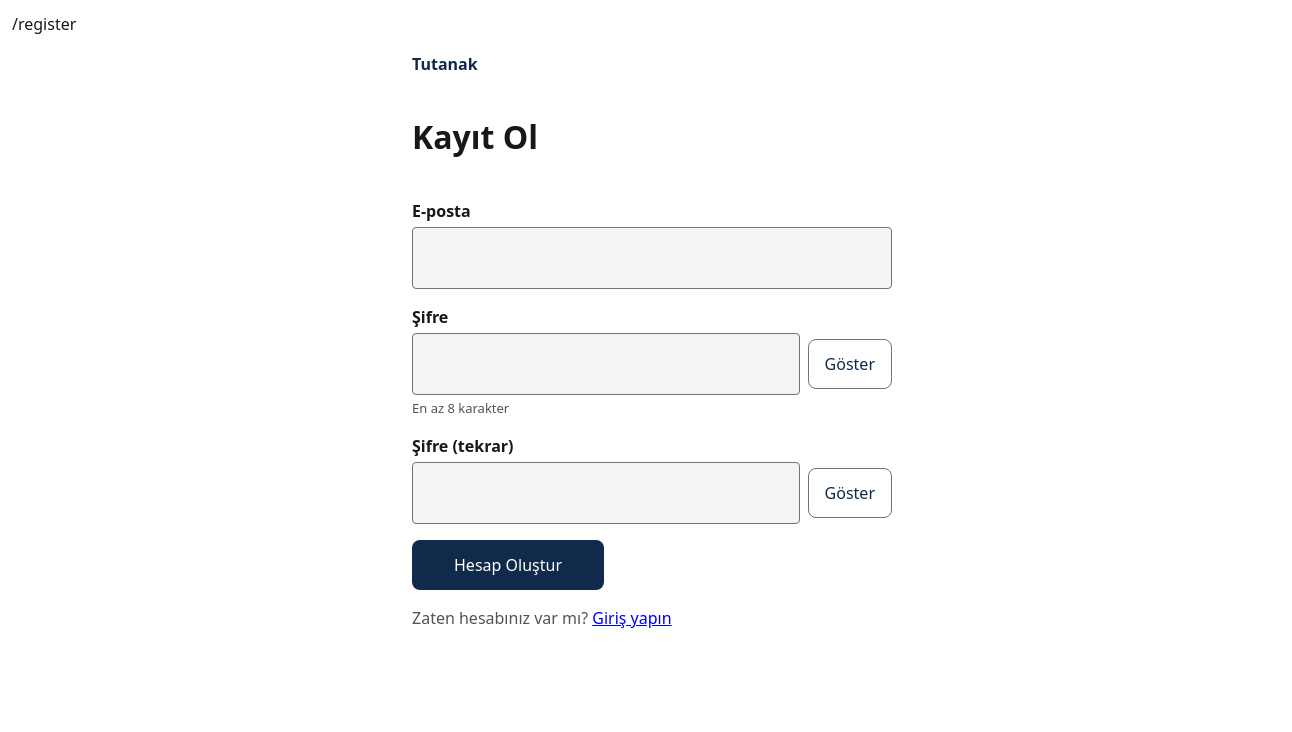
Test: RegisterPage › hata durumlari (kriter 7) › 429 yanitinda hiz siniri banner"i gosterir
Type "selin@ornek.com" into the field labelled "E-posta" at (652, 258), box [412,227,892,289]
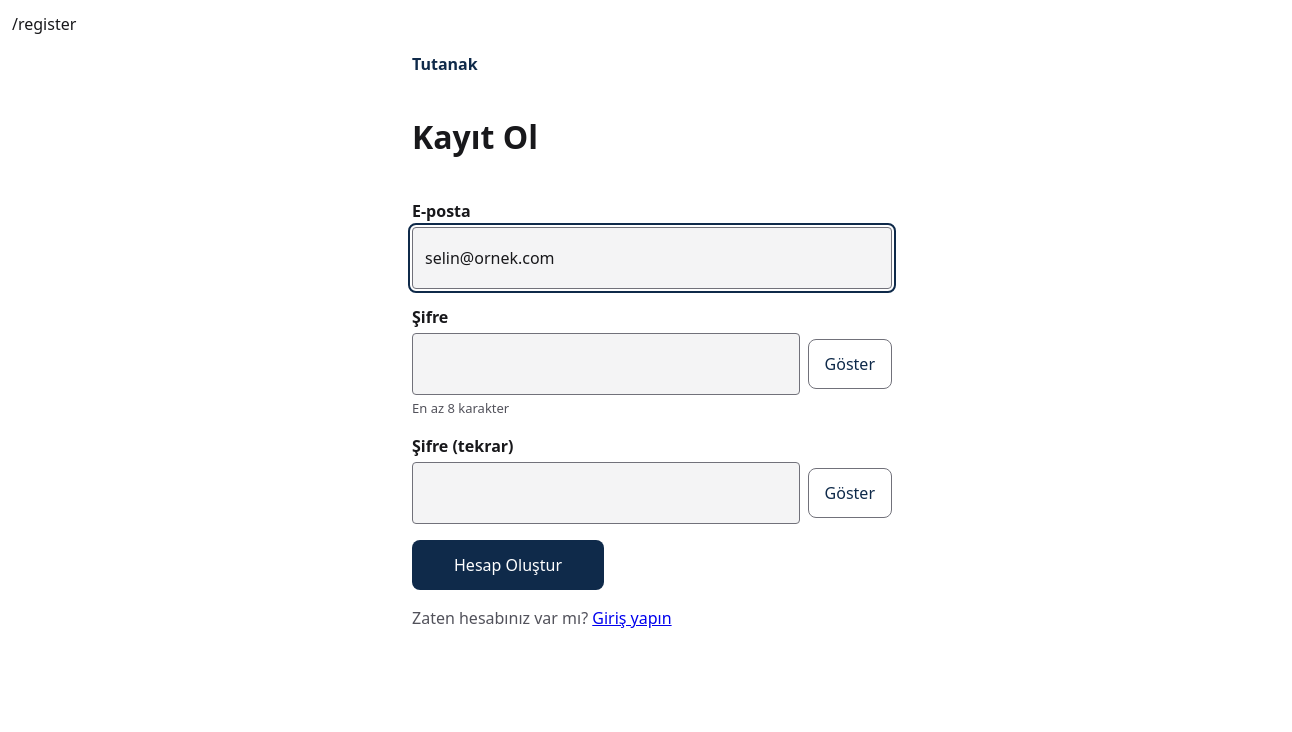
Type "cok-gizli-8" into the password field labelled "Şifre" at (606, 364), box [412,333,800,395]
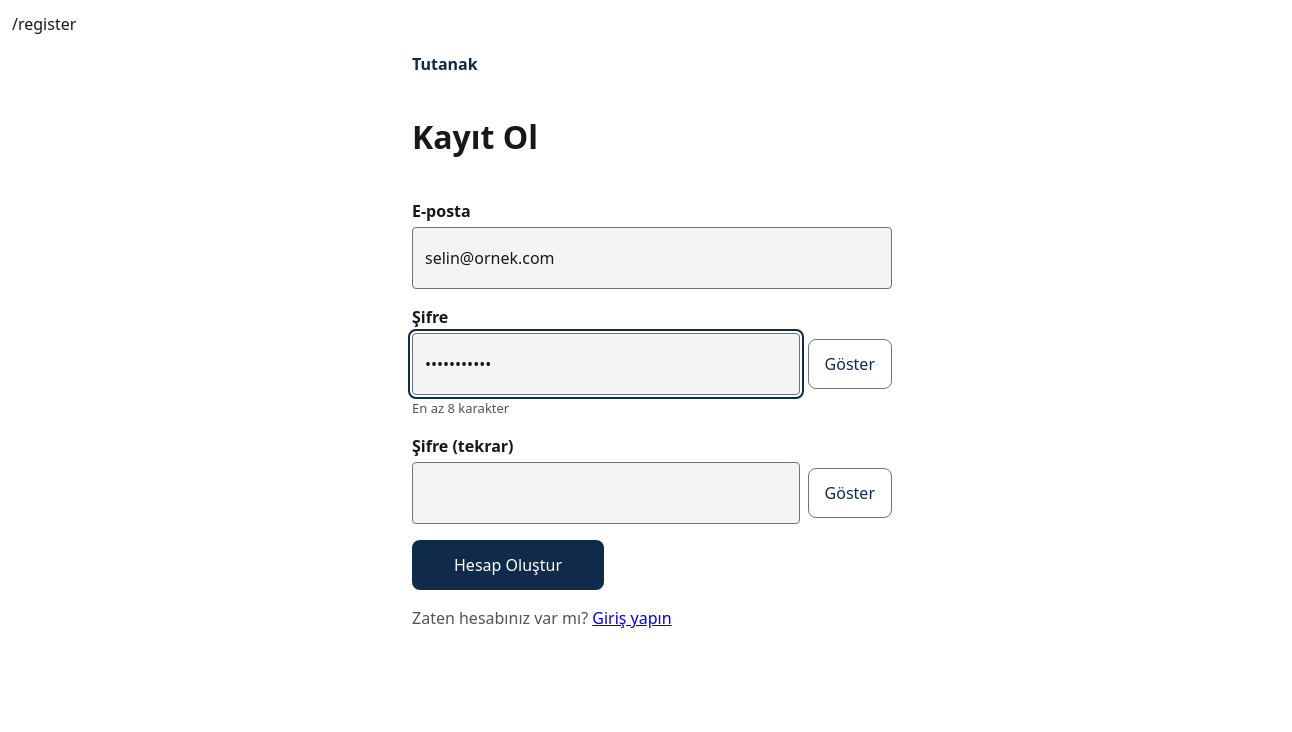
Type "cok-gizli-8" into the password field labelled "Şifre (tekrar)" at (606, 493), box [412,462,800,524]
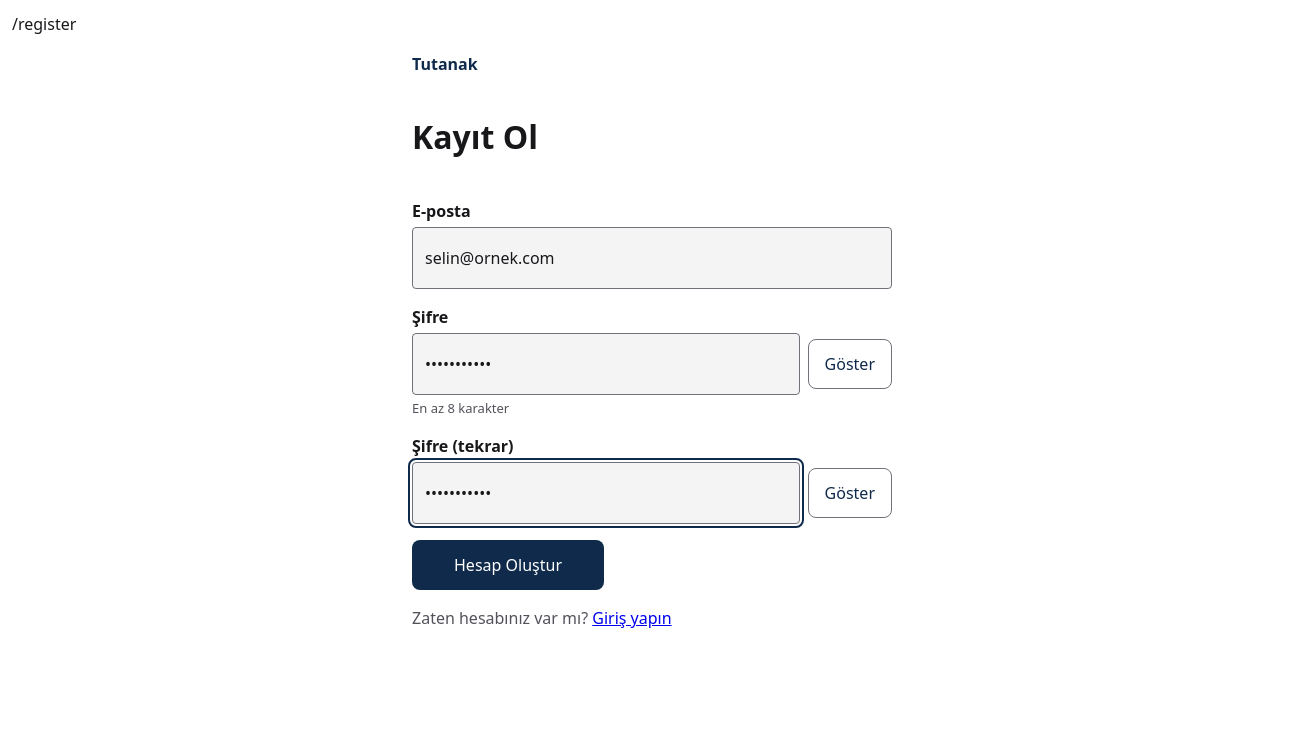
Click the button "Hesap Oluştur" at (508, 565), box [412,540,604,590]
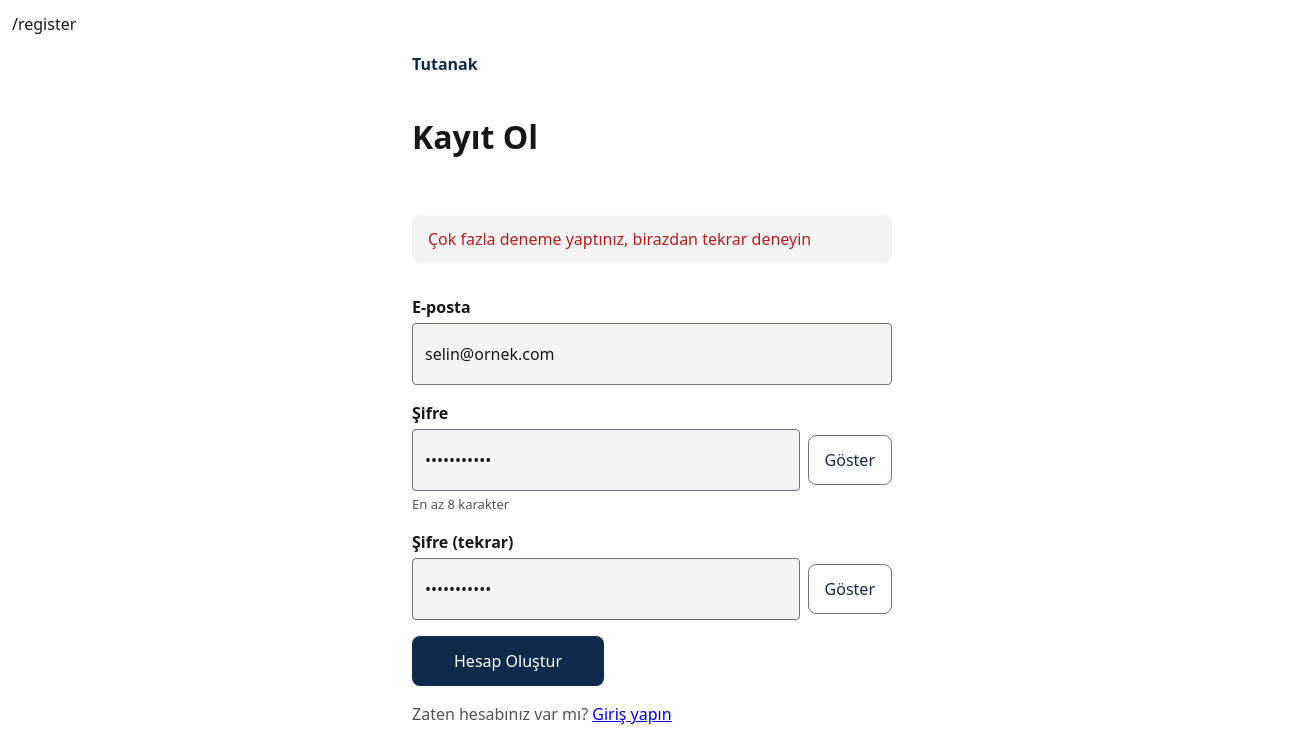
Expected: the message reads "Çok fazla deneme yaptınız, birazdan tekrar deneyin", [428,228,811,250]
